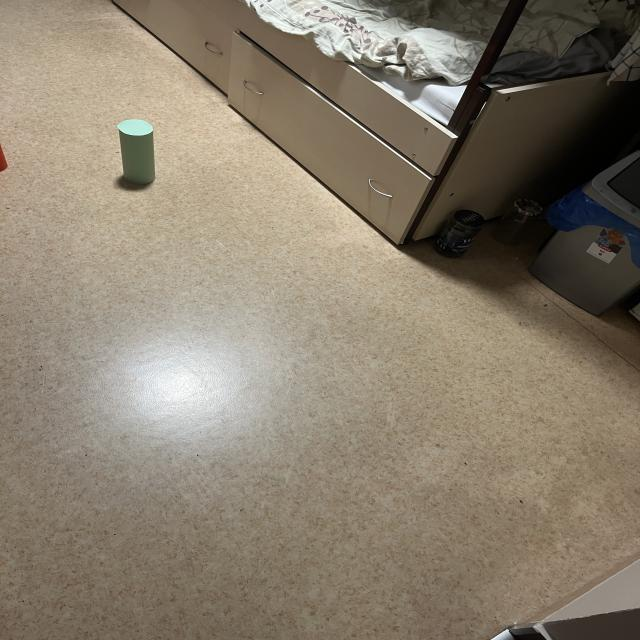meta: (117, 119, 155, 184)
